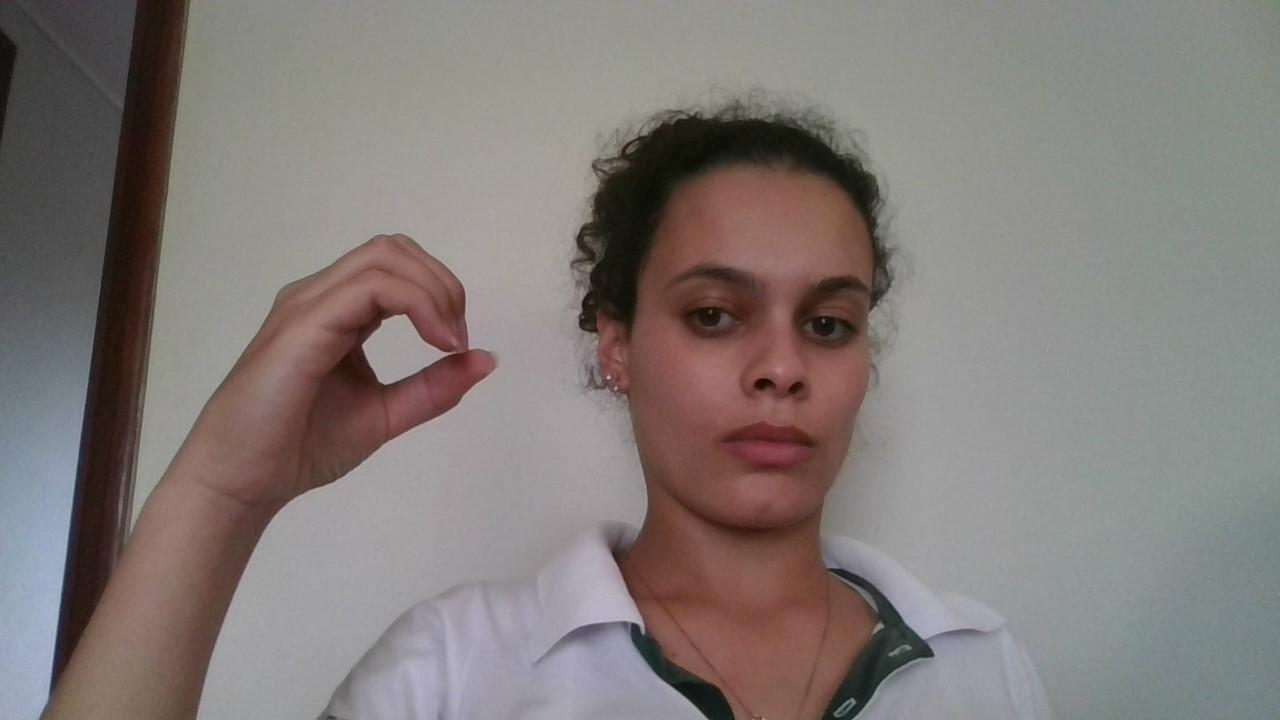O: (208, 230, 512, 488)
